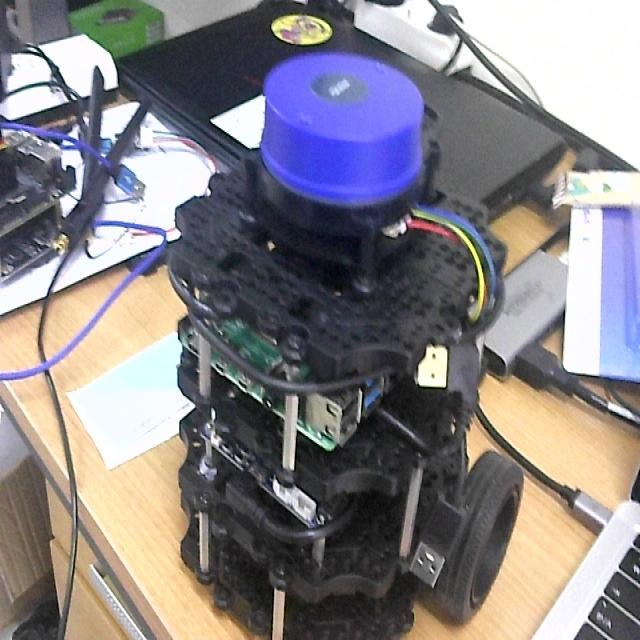turtle: (159, 52, 526, 640)
